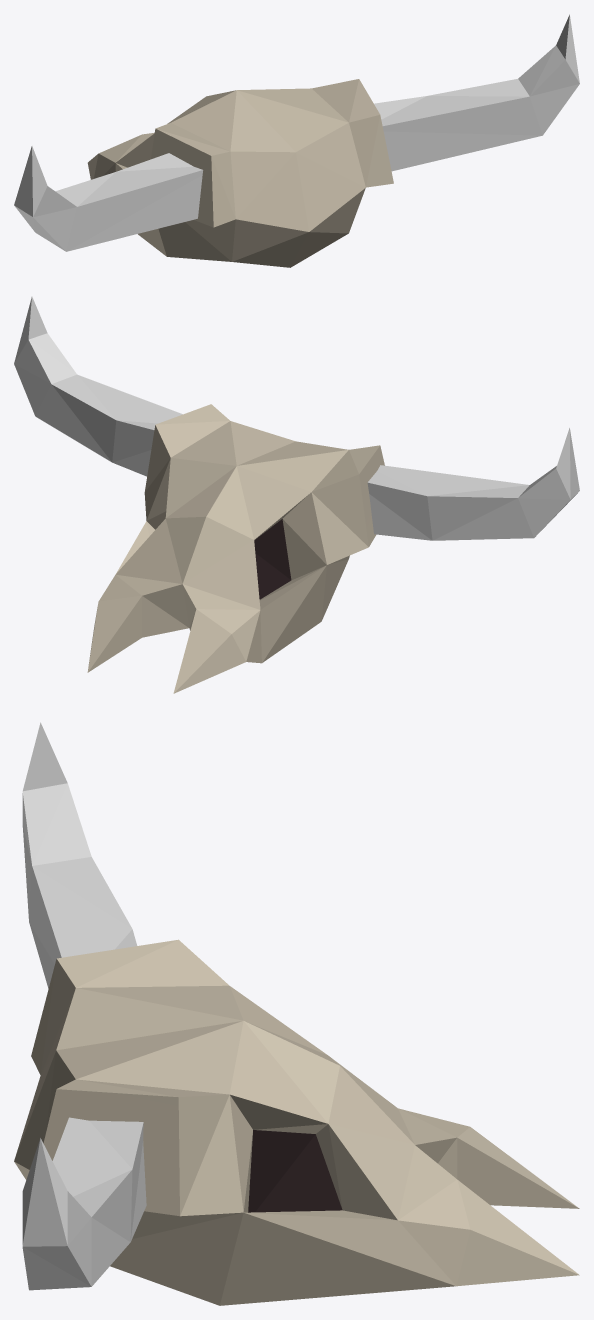
File: Bone_02.fbx
3 renders of one model, top to bottom at view 1: azimuth 30°, elevation 25°; view 2: azimuth 150°, elevation 25°; view 3: azimuth 270°, elevation 25°, orthographic. The views are drawn at different scales.
Visible parts, largest first — view 1: Bone_02; view 2: Bone_02; view 3: Bone_02.
Boxes of the visible parts, x1,y1,x2,y2 form: Bone_02: (14,14,579,267); Bone_02: (14,296,579,693); Bone_02: (14,722,579,1305).
Bounding box in the file's own units: 320 × 112 × 178.
